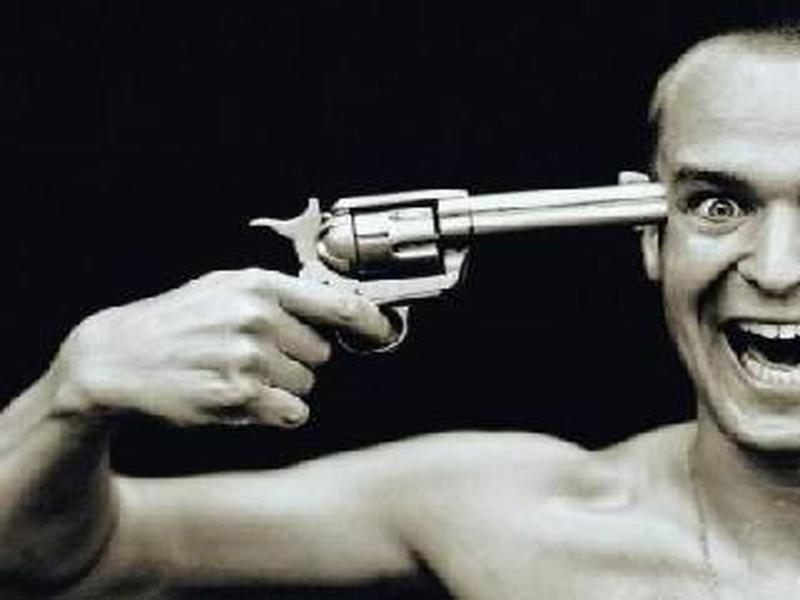Revolver: (234, 158, 672, 362)
